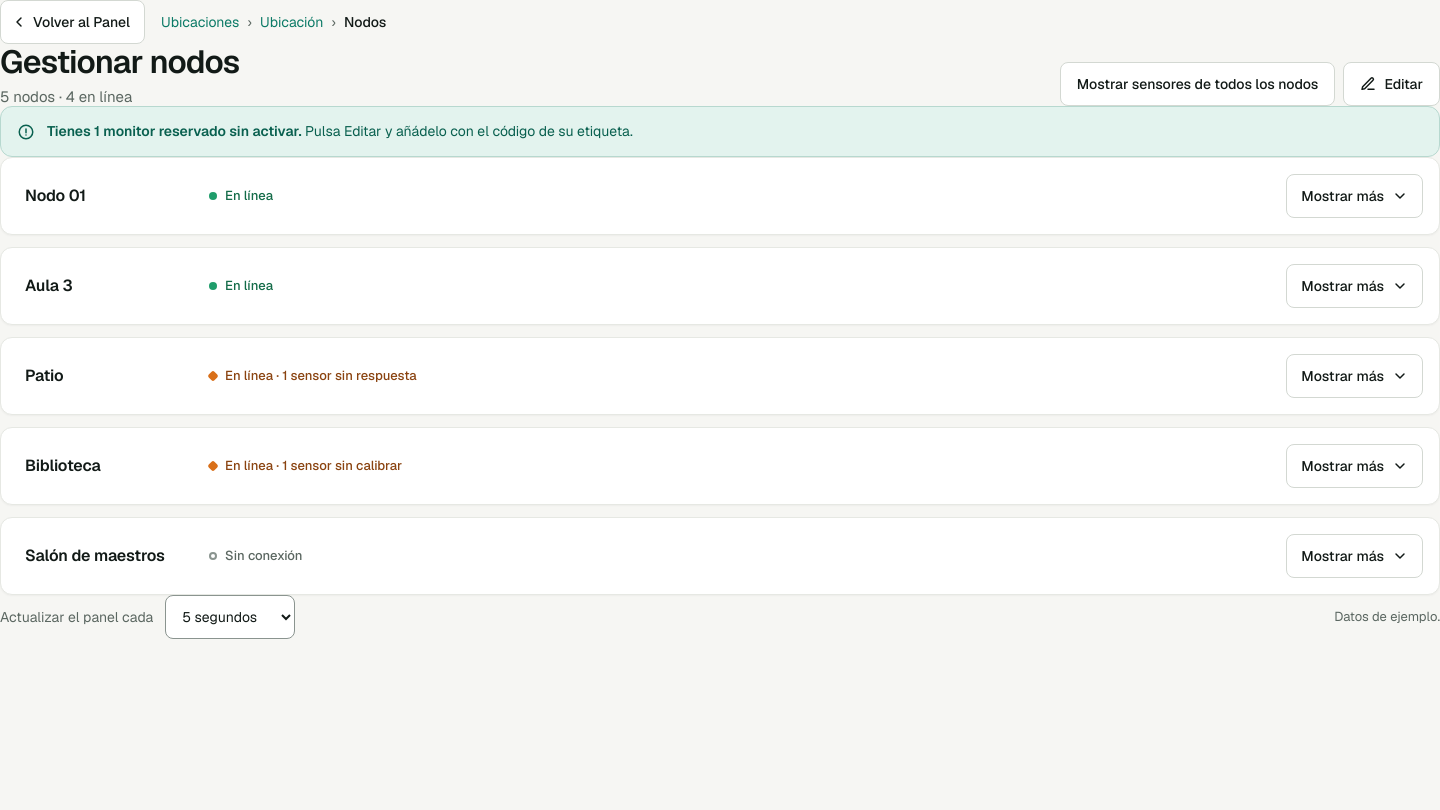
Scenario: Nodos › rechaza un código mal escrito o de otra cuenta
The image size is (1440, 810).
Expected: the text "Patio" is shown, left=25, top=365, right=63, bottom=386
Step 1. Click the button "Editar" → x=1392, y=84, box left=1343, top=62, right=1439, bottom=106
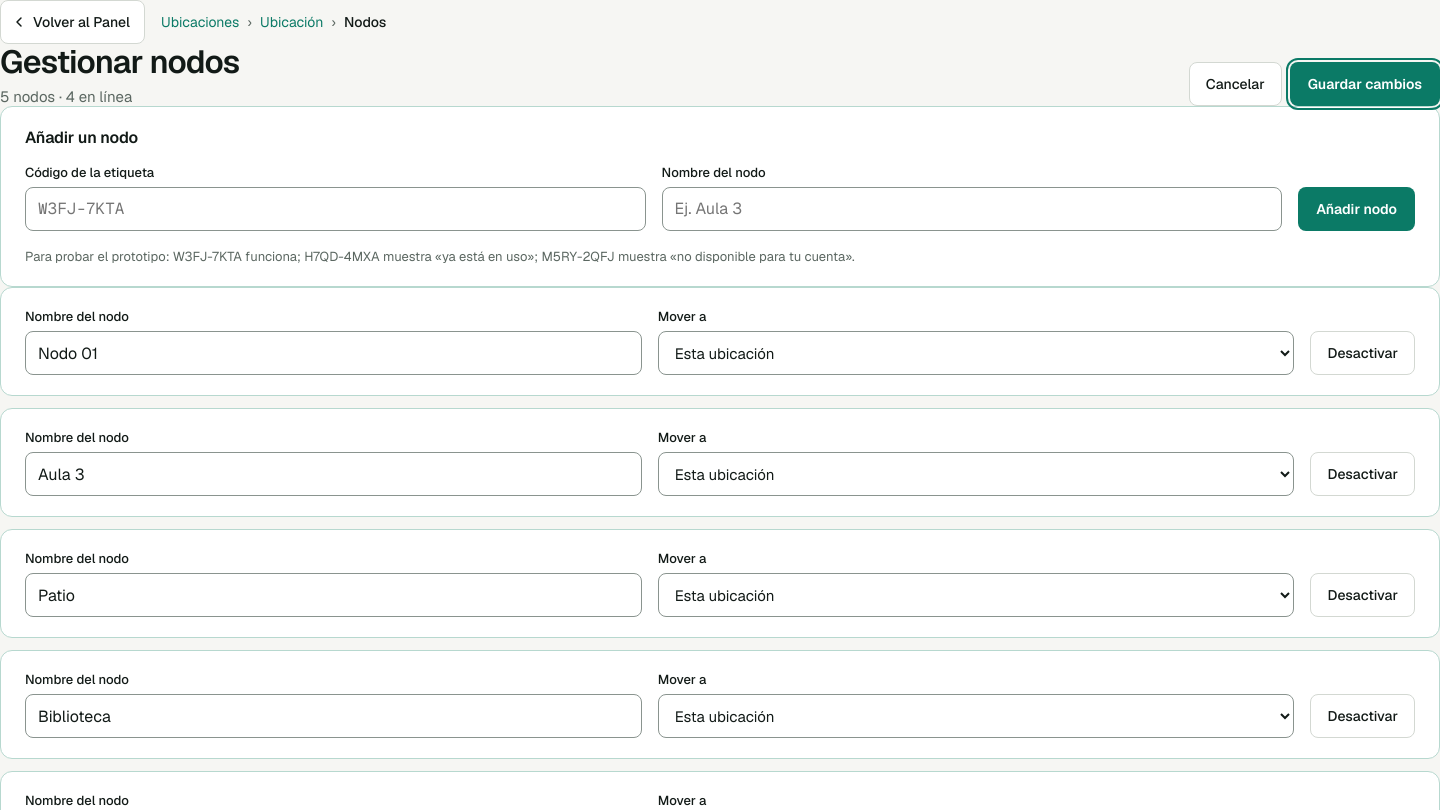
Step 2. Type "abc" into the field labelled "Código de la etiqueta" → x=335, y=209, box left=25, top=187, right=646, bottom=231
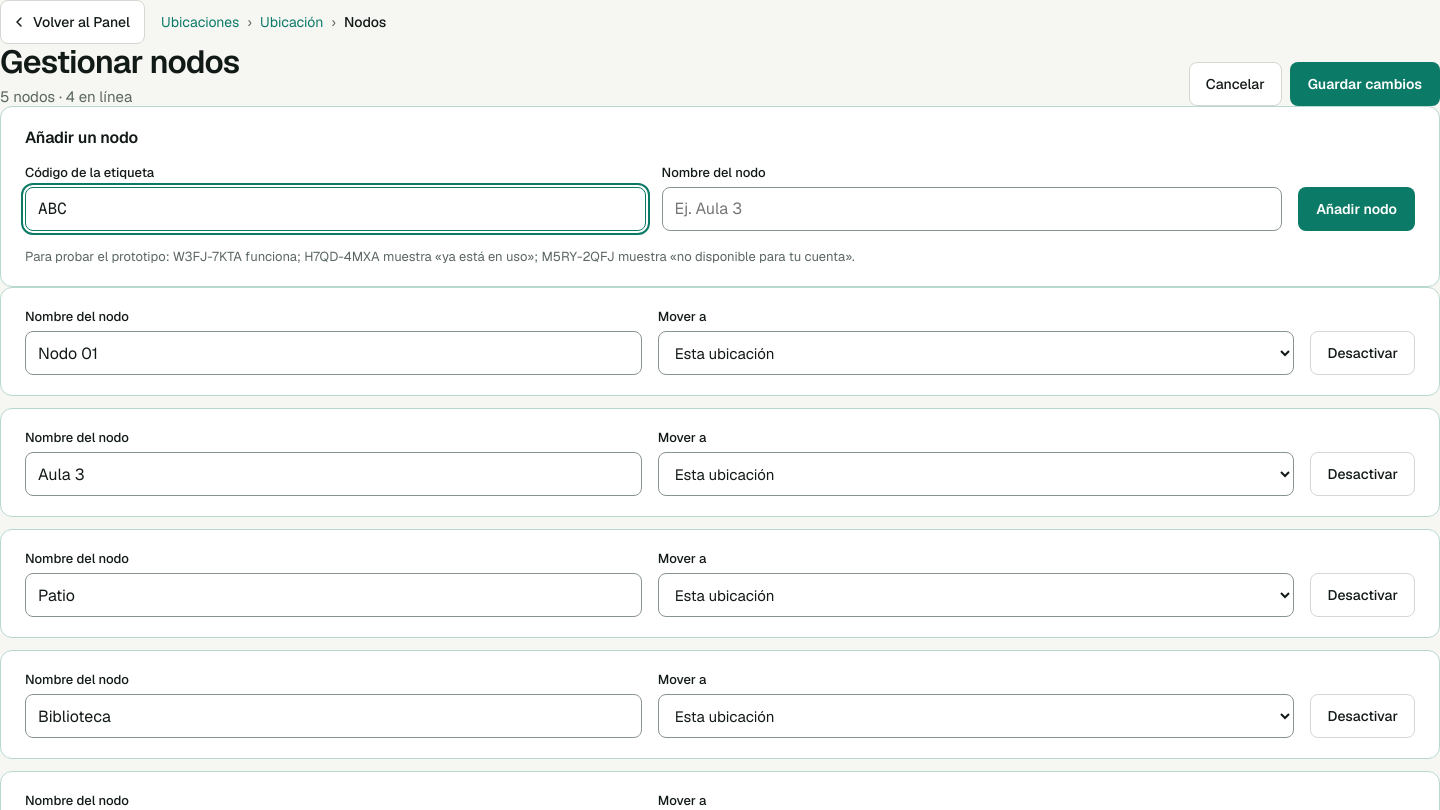
Step 3. Click the button "Añadir nodo" → x=1357, y=209, box left=1298, top=187, right=1415, bottom=231
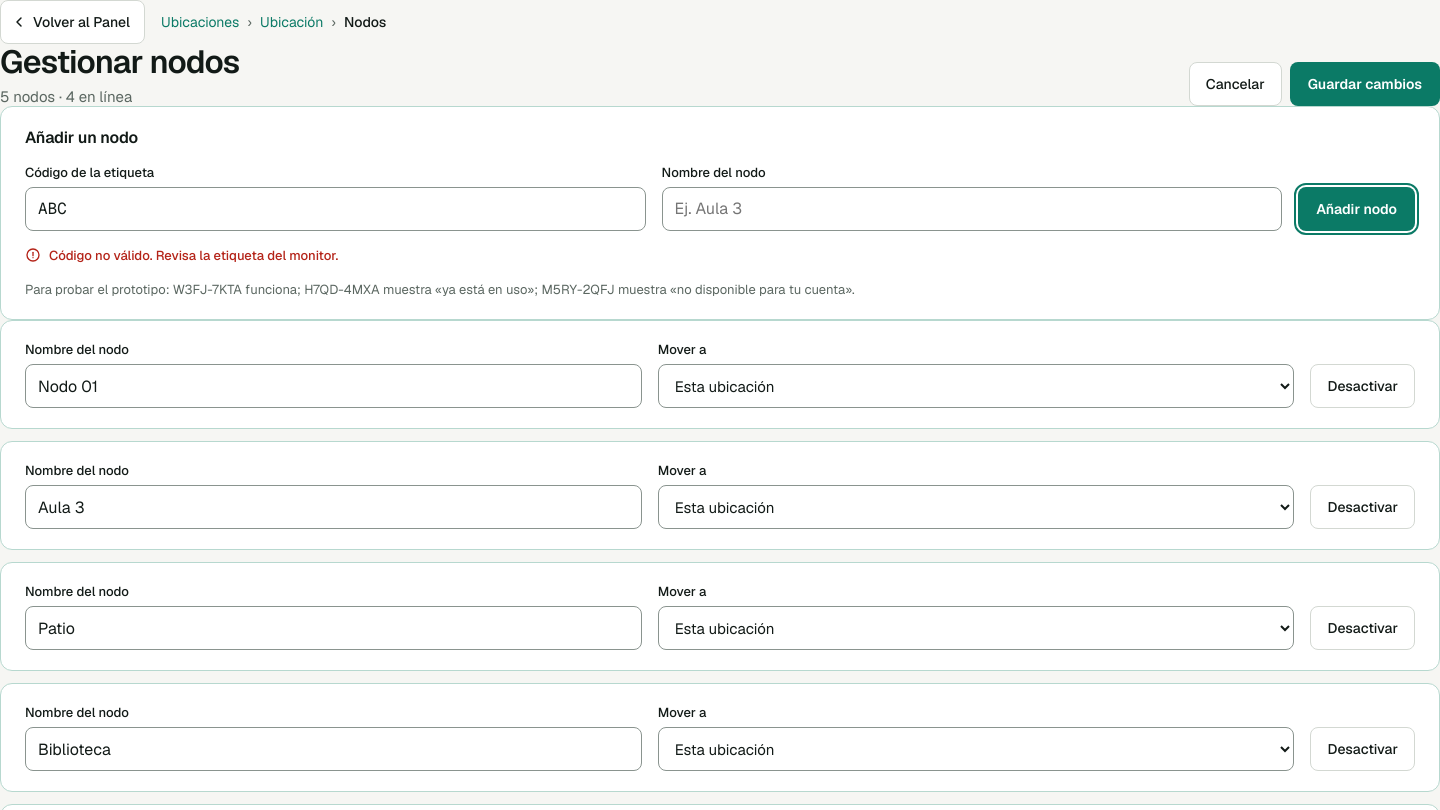
Expected: the message shows "Código no válido", left=49, top=247, right=338, bottom=264
Step 4. Replace the text in the field labelled "Código de la etiqueta" with "m5ry2qfj" → x=335, y=209, box left=25, top=187, right=646, bottom=231
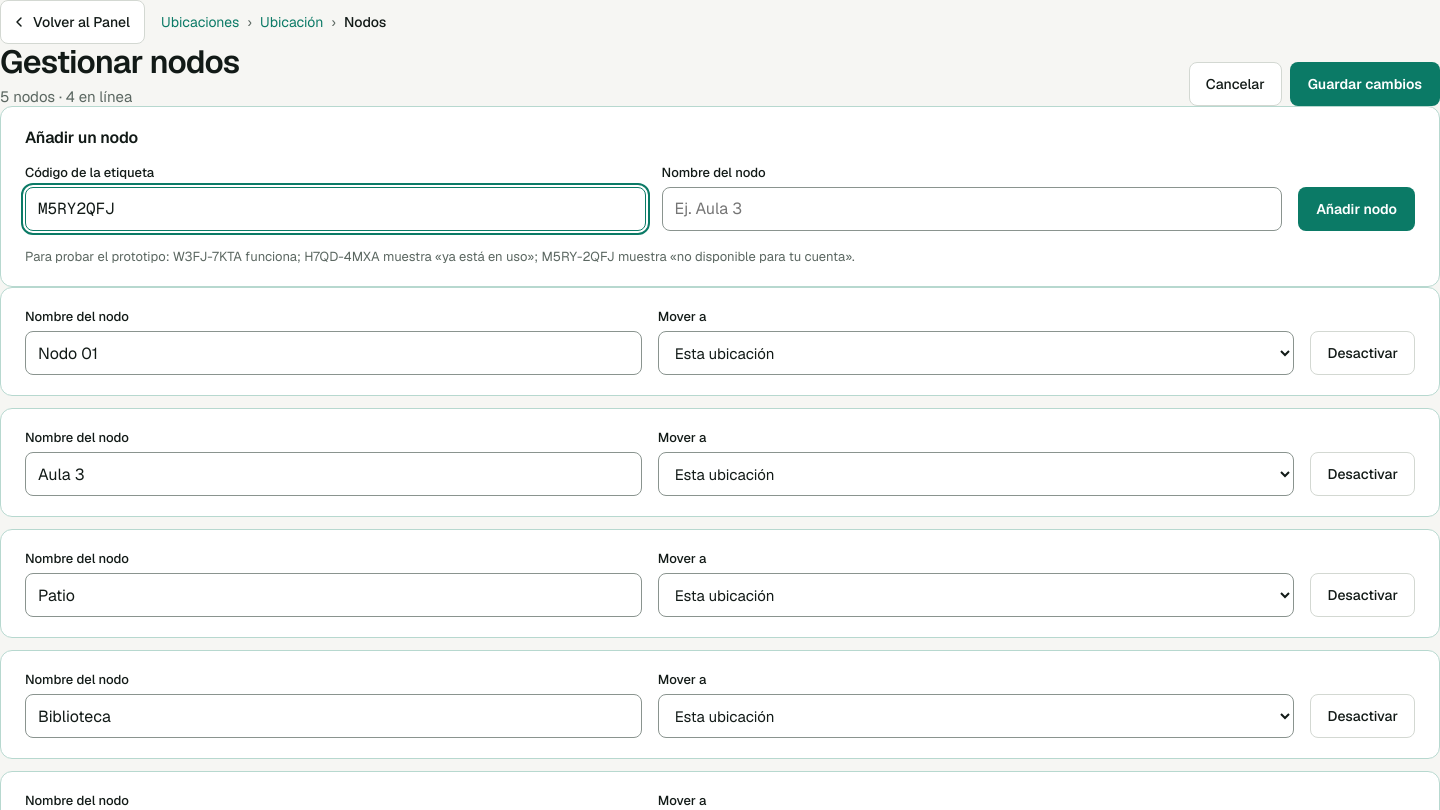
Step 5. Type "Laboratorio" into the 1st field labelled "Nombre del nodo" → x=972, y=209, box left=662, top=187, right=1282, bottom=231
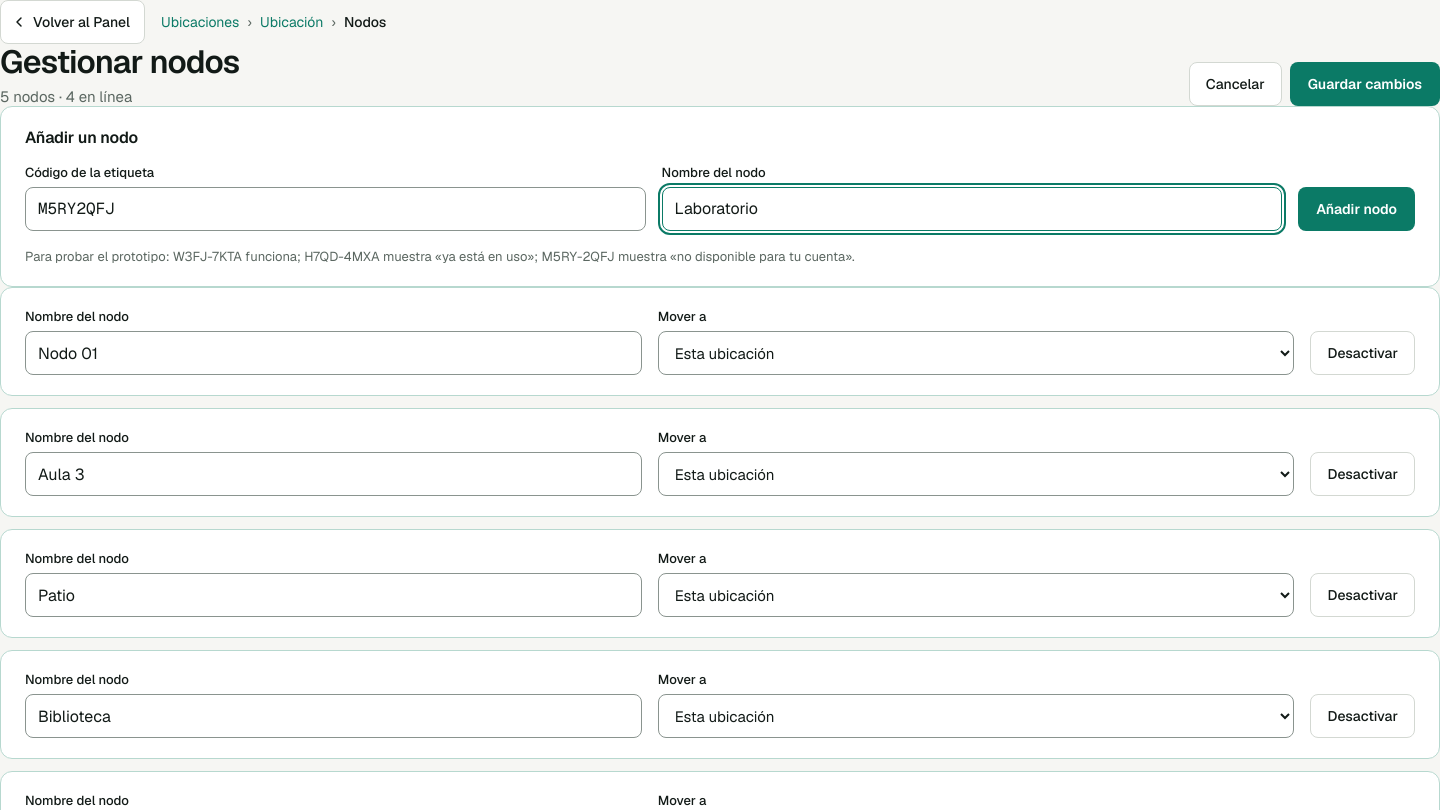
Step 6. Click the button "Añadir nodo" → x=1357, y=209, box left=1298, top=187, right=1415, bottom=231
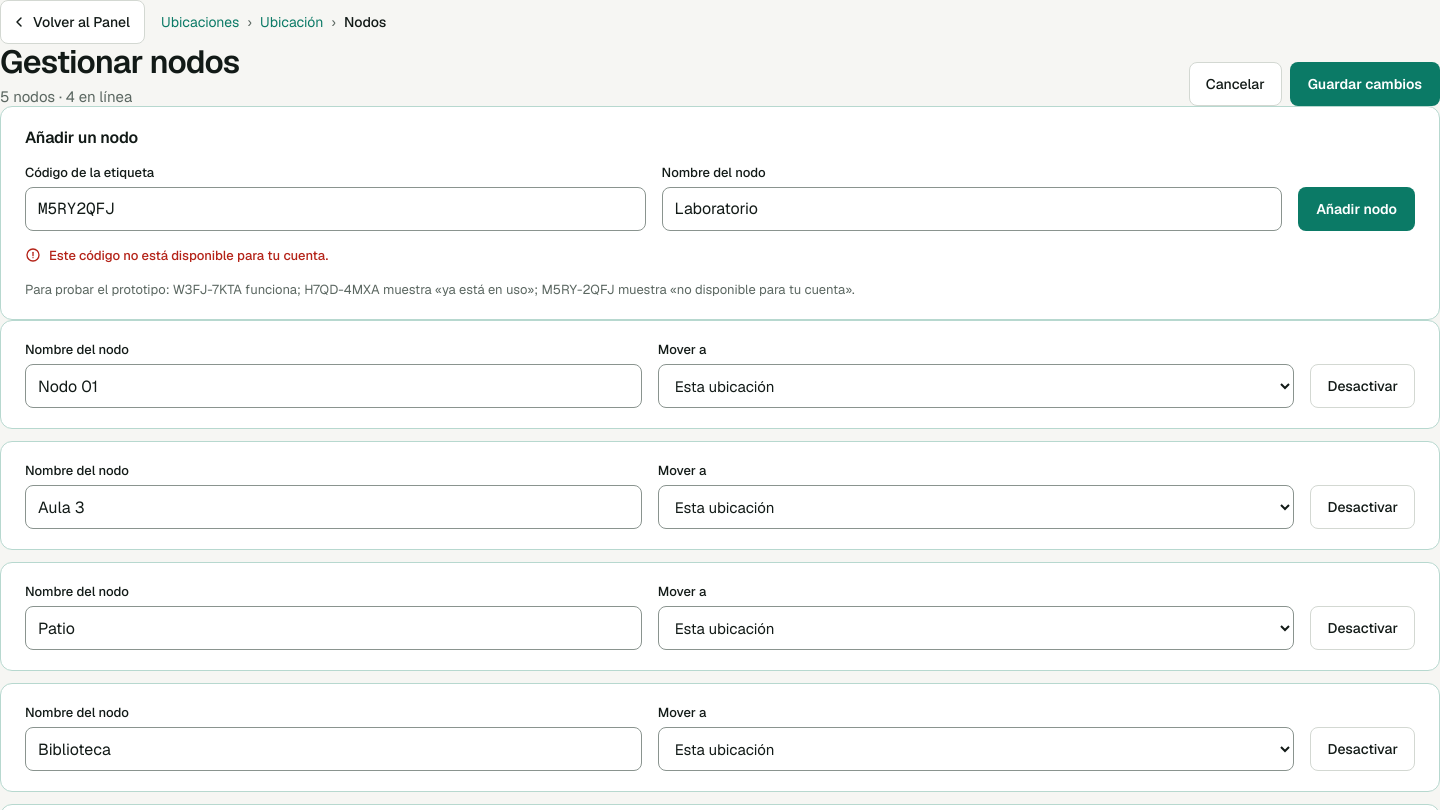
Expected: the message shows "no está disponible para tu cuenta", left=49, top=247, right=328, bottom=264
